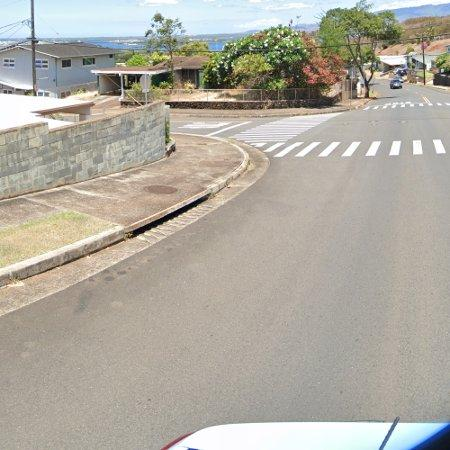crosswalks: (253, 139, 448, 158)
